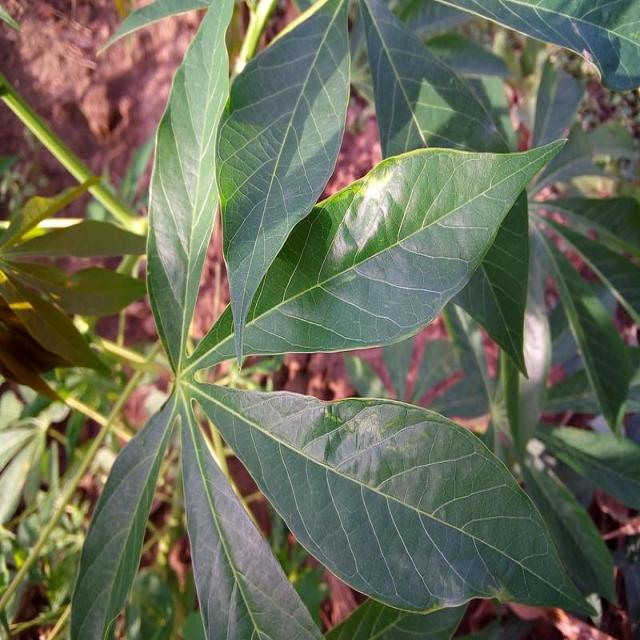cassava leaf: (68, 0, 608, 637), (181, 378, 601, 620), (212, 133, 568, 369), (214, 0, 351, 369)
